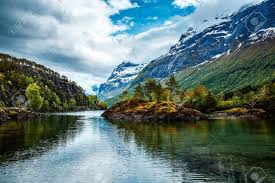lake: (8, 109, 272, 182)
mountain: (116, 19, 274, 121), (1, 58, 95, 113)
sky: (1, 1, 221, 56)
